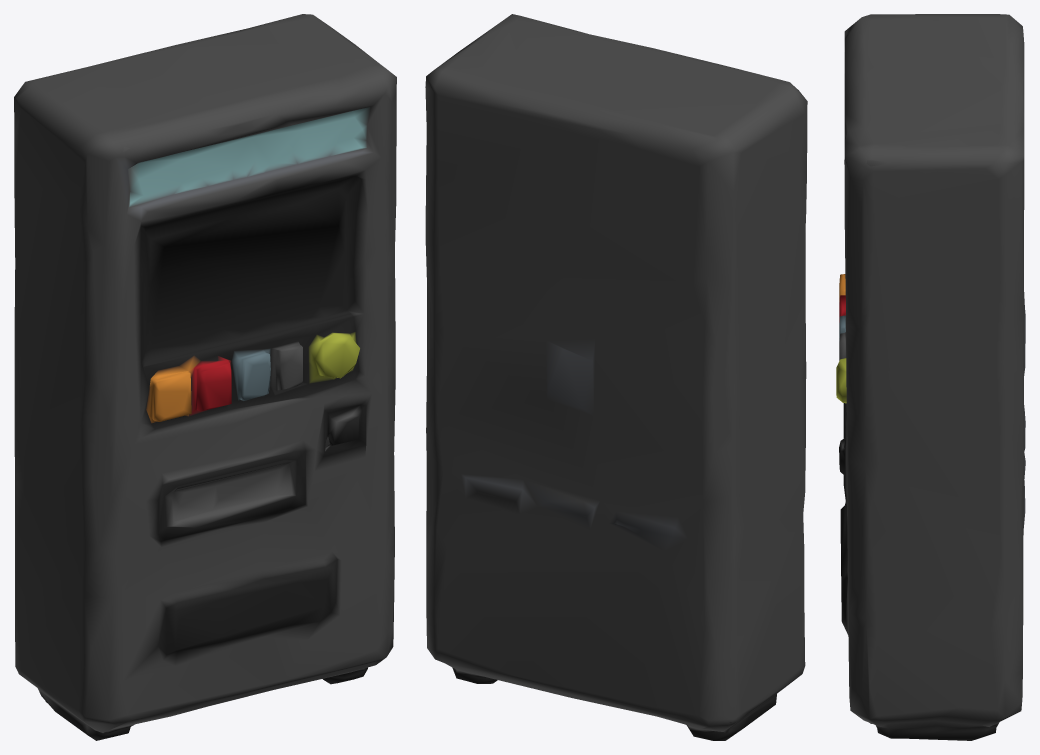
The model's file is gen3d-vending-machine-lod0.glb.
3 views of the same model, side by side, from view 1: azimuth 30°, elevation 25°; view 2: azimuth 150°, elevation 25°; view 3: azimuth 270°, elevation 25° (orthographic). The views are drawn at different scales.
Visible parts, largest first — view 1: part_0; view 2: part_0; view 3: part_0.
Boxes of the visible parts, bbox=[...] form: part_0: bbox=[14, 14, 396, 740]; part_0: bbox=[425, 14, 807, 740]; part_0: bbox=[836, 14, 1025, 740].
Bounding box in the file's own units: 0.524 × 1 × 0.2871.
